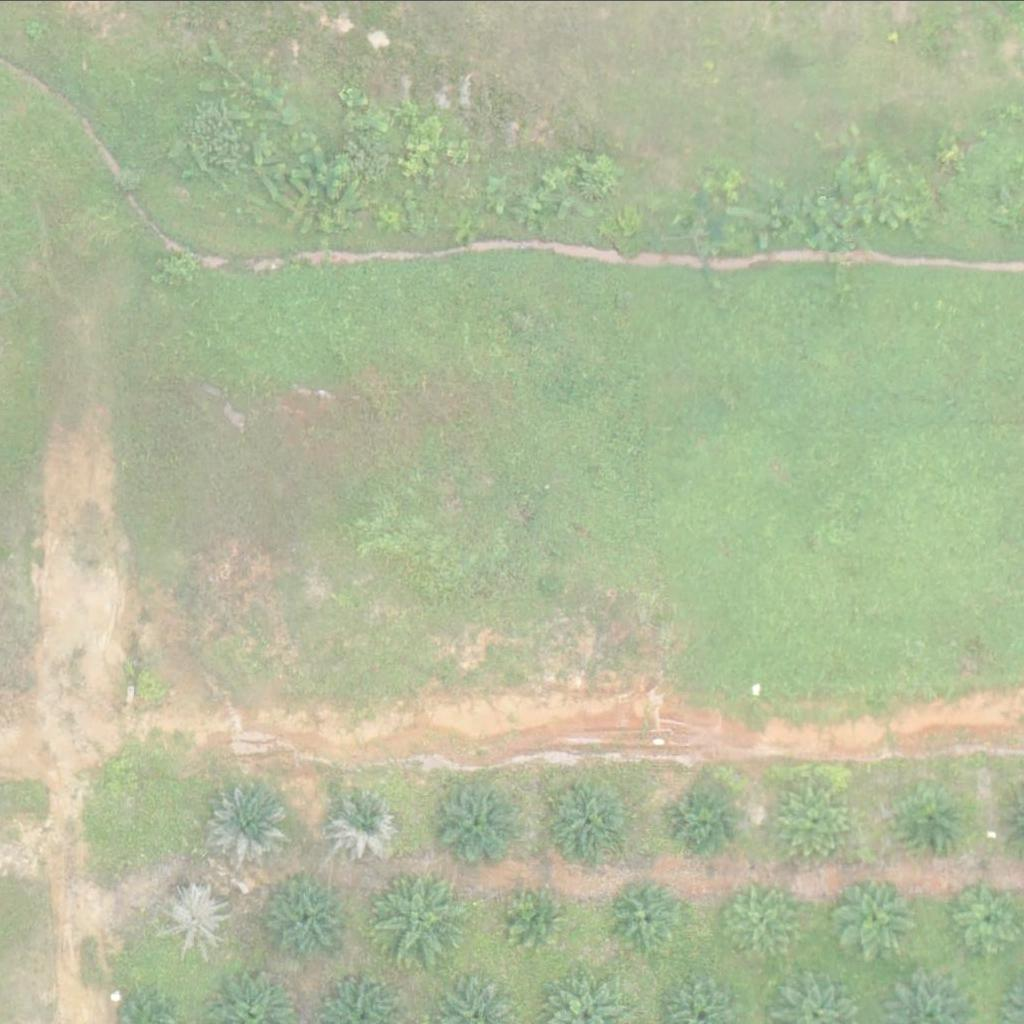Kelapa_Sawit: (258, 864, 358, 964), (372, 864, 472, 964), (206, 780, 294, 868), (436, 778, 524, 866), (547, 777, 635, 865), (828, 877, 916, 964), (157, 882, 233, 957), (327, 781, 403, 856), (612, 876, 687, 951), (775, 786, 850, 861), (667, 779, 742, 854), (723, 884, 798, 959), (898, 793, 961, 856), (507, 886, 570, 949)
